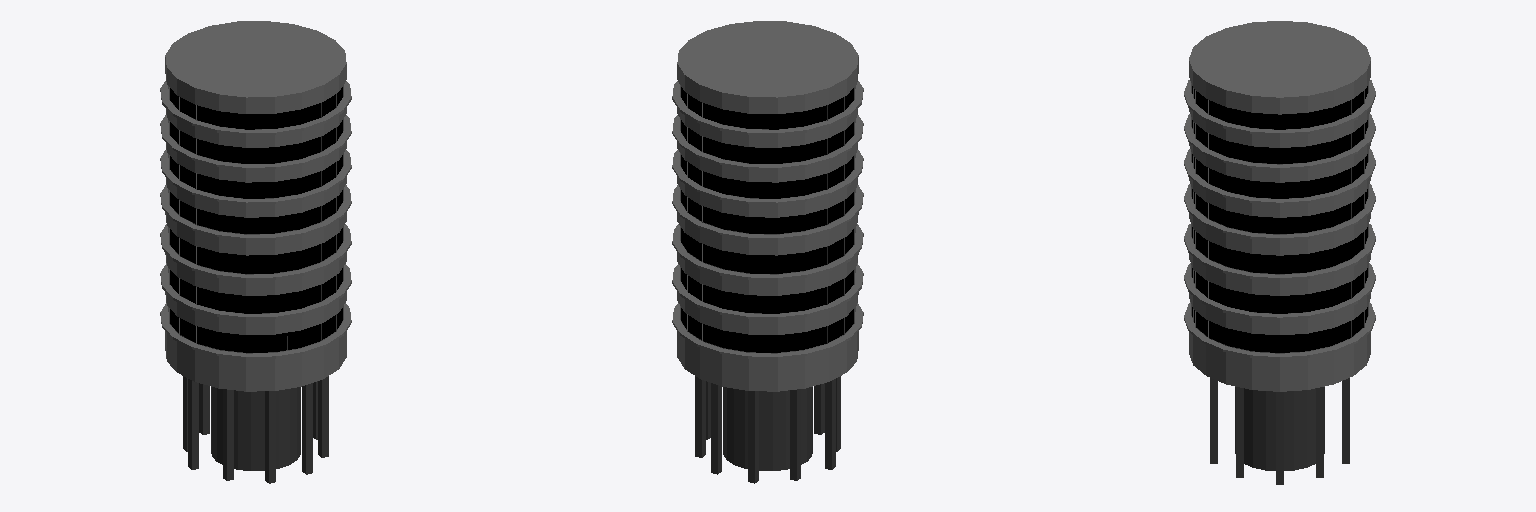
File: Smith_Tower.obj
3 views of the same model, side by side, from view 1: azimuth 30°, elevation 25°; view 2: azimuth 150°, elevation 25°; view 3: azimuth 270°, elevation 25° (orthographic).
Parts seen in each view (by area): view 1: SmithTower; view 2: SmithTower; view 3: SmithTower.
Boxes of the visible parts, box(x1,y1,x2,y2) form: SmithTower: box(160, 21, 351, 483); SmithTower: box(672, 21, 863, 483); SmithTower: box(1184, 21, 1375, 484).
Size of the model in its own units: 40.45 by 91.34 by 40.45.